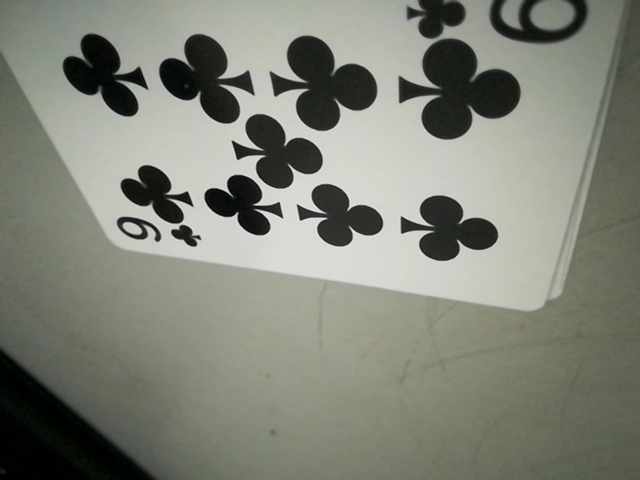mh 9: (404, 0, 594, 43), (109, 216, 207, 255)
